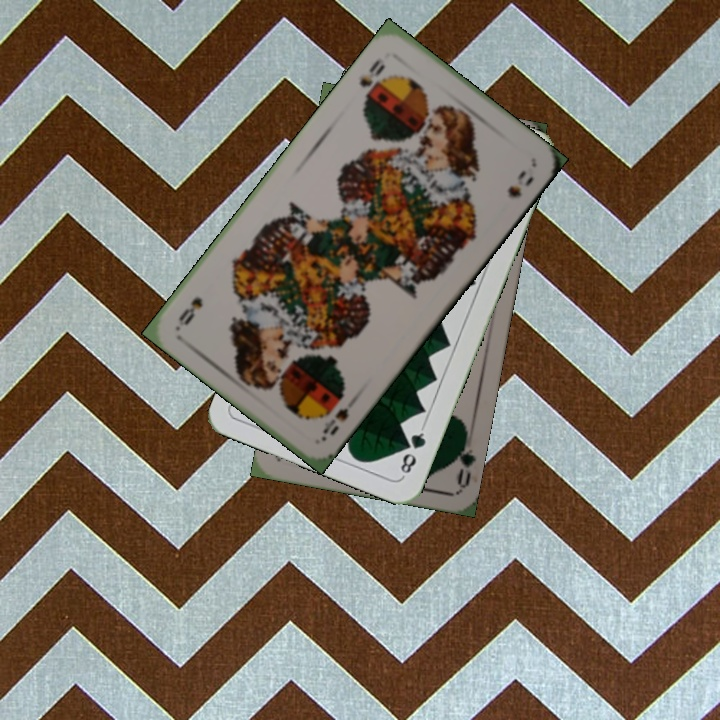G8: (396, 423, 429, 479)
GO: (449, 429, 477, 489)
SO: (355, 54, 388, 91), (318, 404, 351, 439)
